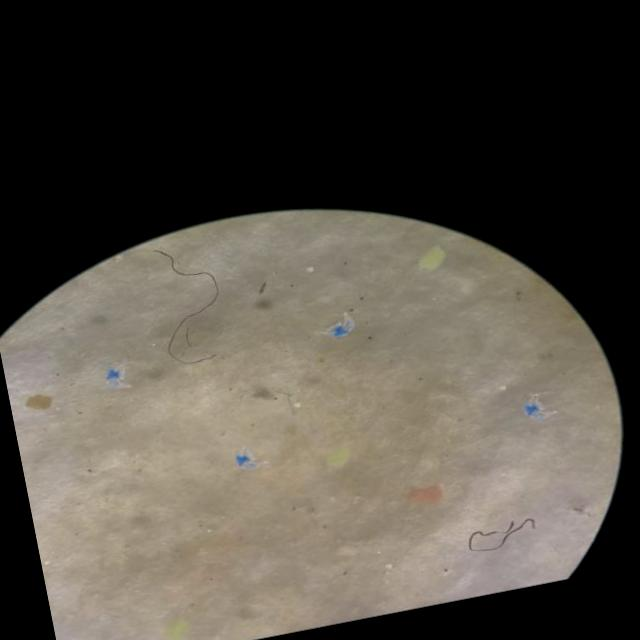fiber: (154, 248, 220, 363), (470, 518, 536, 552)
film: (523, 393, 557, 420), (108, 365, 130, 387), (237, 450, 267, 465), (326, 327, 355, 338)
fragment: (408, 486, 443, 503), (166, 619, 189, 640), (328, 446, 351, 466)
pellet: (499, 385, 507, 391), (386, 563, 393, 569), (308, 266, 314, 272), (295, 402, 300, 407)
